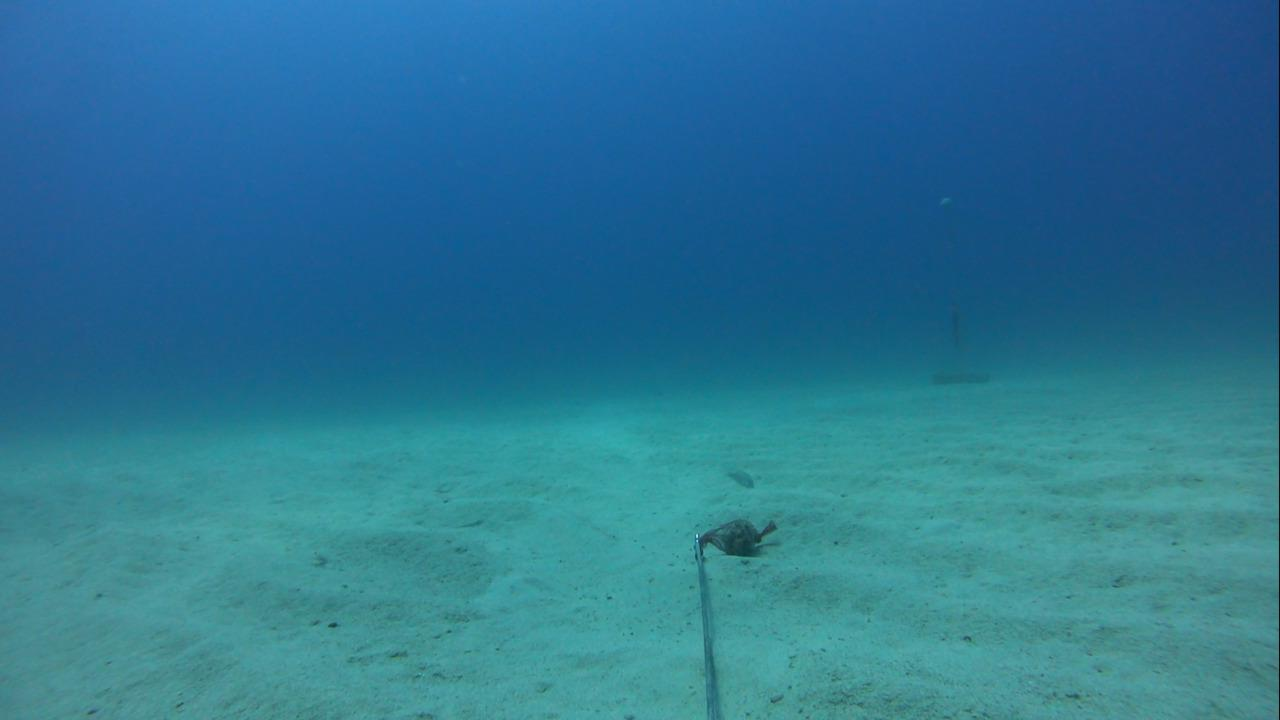raor: (717, 459, 762, 497)
